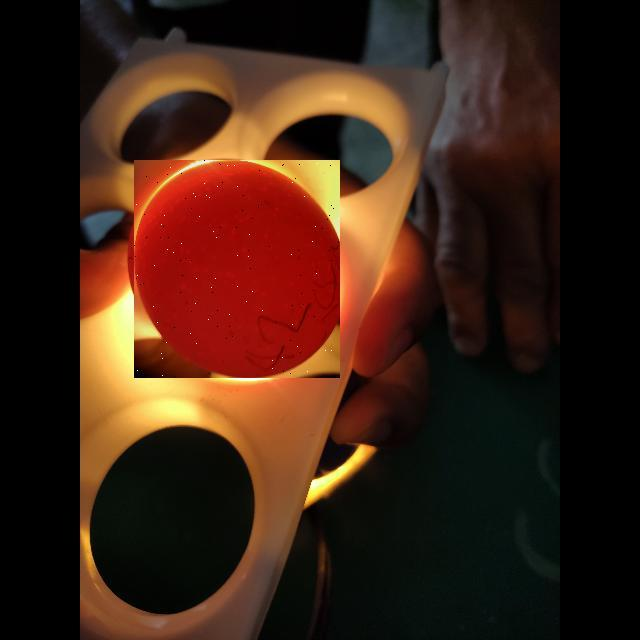A - Good: (134, 160, 340, 378)
